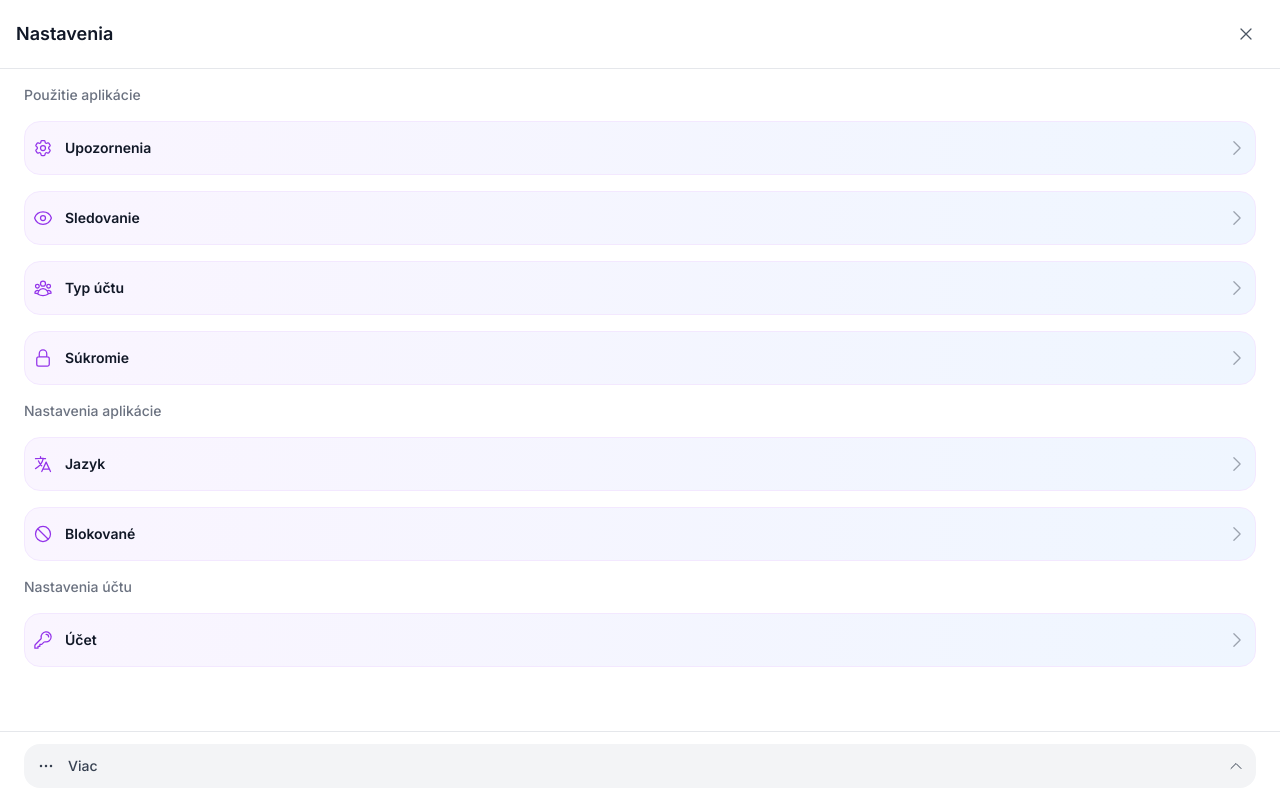
Test: Sidebar › moves theme and logout into the mobile More menu
Expected: the text "Tmavý režim" is not shown
Expected: the text "Odhlásiť sa" is not shown
Click the button "Viac". click: (46, 766)
box: [24, 744, 1256, 788]
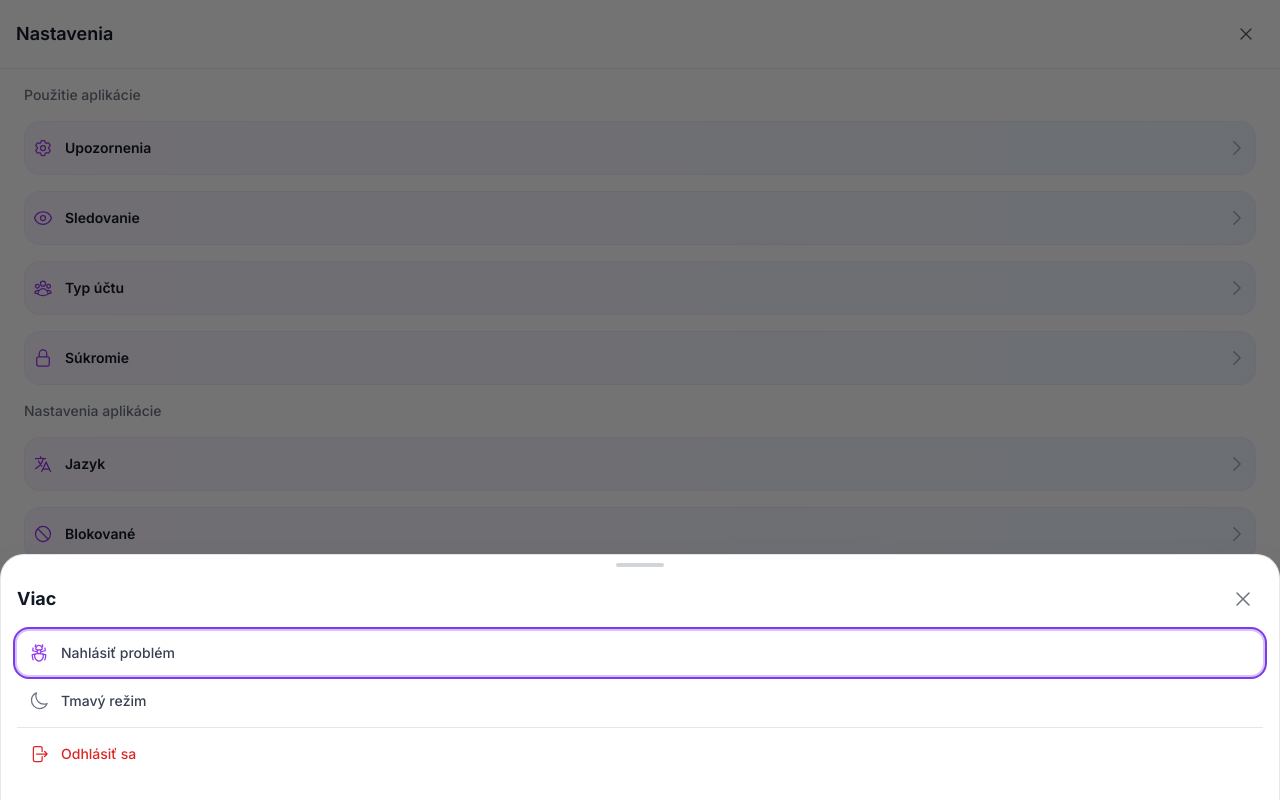
Expected: the button "Tmavý režim" is shown, [17, 679, 1263, 723]
Expected: the button "Odhlásiť sa" is shown, [17, 732, 1263, 776]
